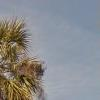Palm tree: (3, 11, 51, 99)
